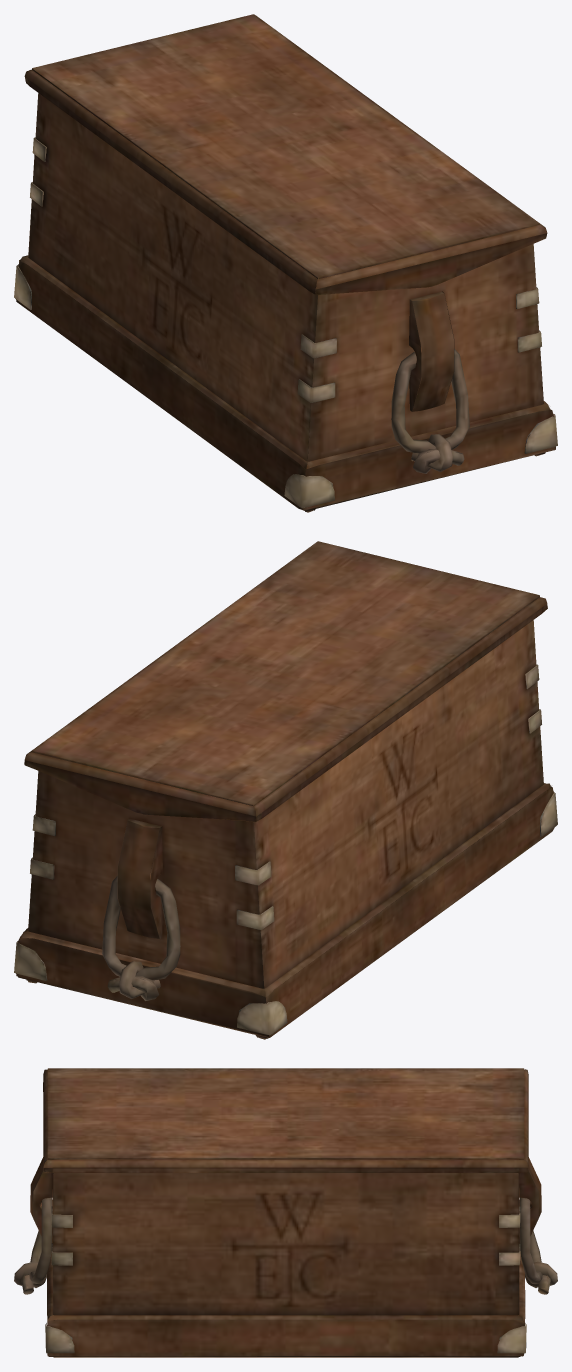
File: wooden_crate.glb
3 renders of one model, top to bottom at view 1: azimuth 30°, elevation 25°; view 2: azimuth 150°, elevation 25°; view 3: azimuth 270°, elevation 25°, orthographic. The views are drawn at different scales.
Visible parts, largest first — view 1: wooden_crate_02_crate; view 2: wooden_crate_02_crate; view 3: wooden_crate_02_crate.
Boxes of the visible parts, x1,y1,x2,y2 form: wooden_crate_02_crate: (14, 14, 557, 512); wooden_crate_02_crate: (14, 541, 557, 1039); wooden_crate_02_crate: (14, 1068, 557, 1357).
Bounding box in the file's own units: 0.5291 × 0.4641 × 1.17.
1 material, 1 textured.
